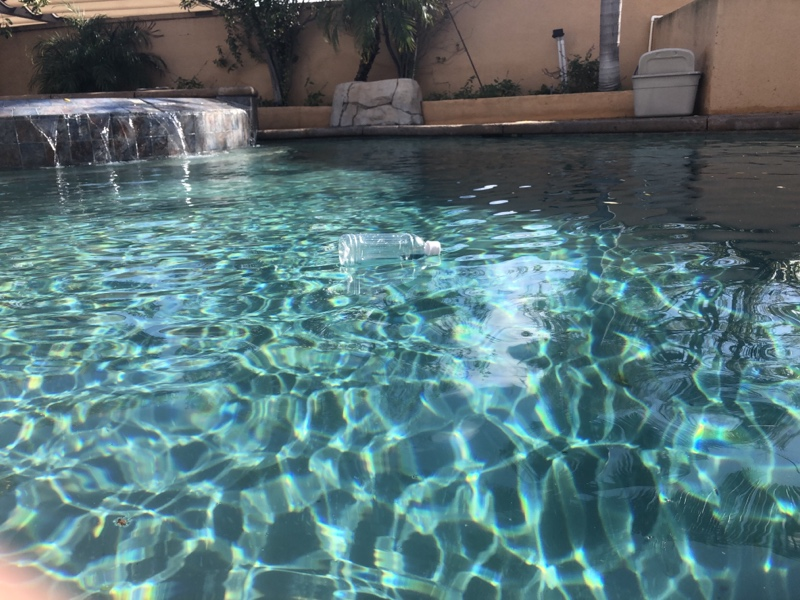Plastic Bottle: (333, 230, 444, 270)
